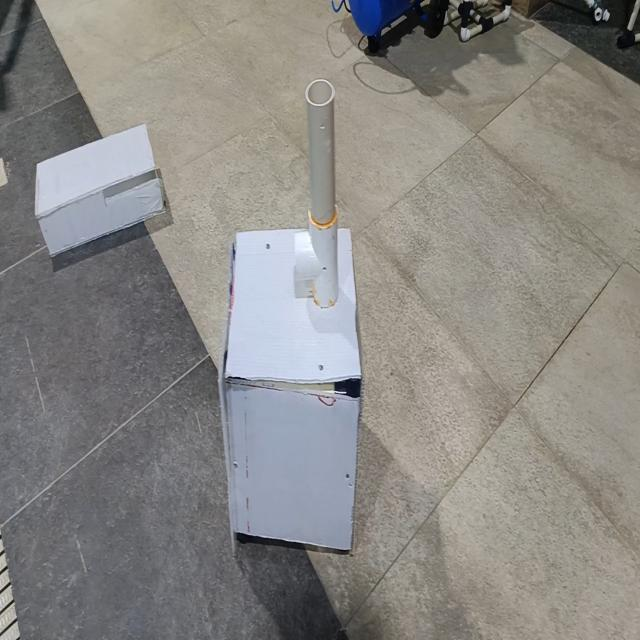Cube: (222, 222, 361, 553)
Cuboid: (34, 121, 164, 258)
